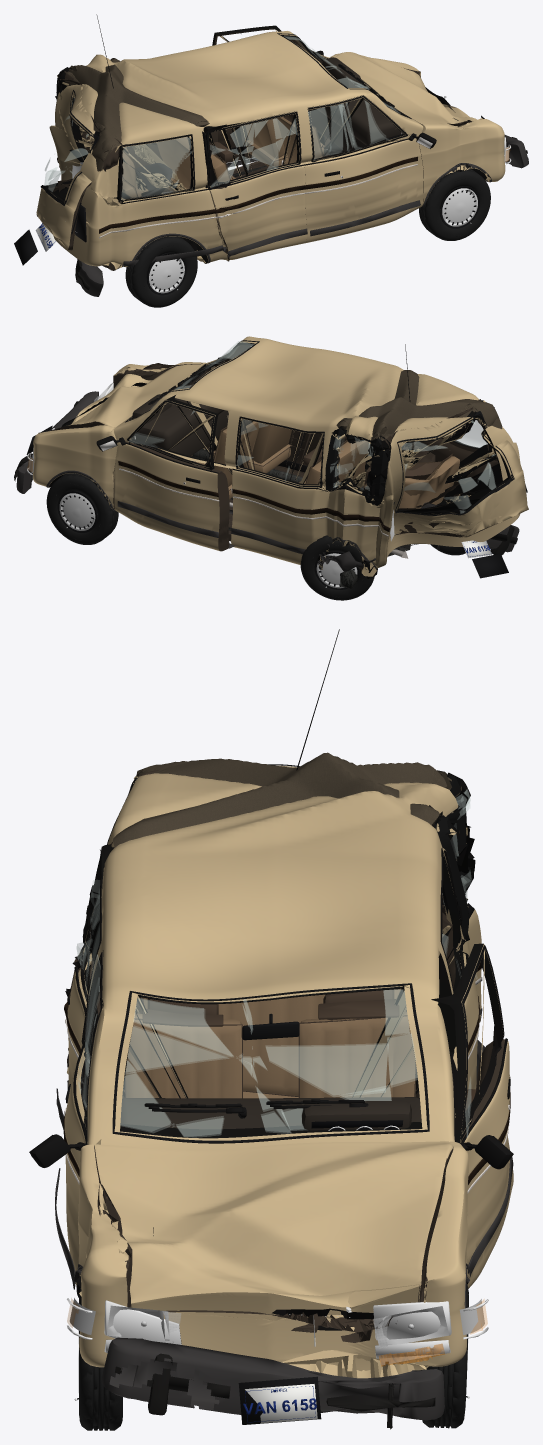
Rendered from minivan86_rear_corner_d2_lod1.glb.
The picture shows the model from 3 angles, top to bottom: view 1: azimuth 30°, elevation 25°; view 2: azimuth 150°, elevation 25°; view 3: azimuth 270°, elevation 25°; orthographic projection. The views are drawn at different scales.
Parts seen in each view (by area): view 1: Body, Door_FR, Interior, Door_SR, Liftgate, Glass, Hood, Wheel_FR_mesh, Wheel_RR_mesh, Trim, Trim_FR, Glass_FR (+7 smaller); view 2: Body, Interior, Door_FL, Liftgate, Trim, Wheel_FL_mesh, Glass, Hood, Wheel_RL_mesh, Trim_FL, Glass_Liftgate, Ends (+5 smaller); view 3: Body, Hood, Interior, Glass, Bumper_F, Ends, Door_FL, Trim_FL, Door_FR, Trim, Trim_FR, Wheel_FR_mesh (+5 smaller).
Part boxes in pixels (x1,y1,x2,y2): Body: (49,31,505,270); Door_FR: (304,95,423,243); Interior: (122,57,402,197); Door_SR: (204,111,306,259); Liftgate: (36,68,123,250); Glass: (56,33,411,202); Hood: (334,52,476,124); Wheel_FR_mesh: (419,169,490,240); Wheel_RR_mesh: (125,236,197,307); Trim: (55,14,491,267); Trim_FR: (304,95,436,236); Glass_FR: (308,96,404,162); Body: (33,336,520,578); Interior: (132,371,459,508); Door_FL: (113,395,229,551); Liftgate: (380,399,528,537); Trim: (46,344,489,577); Wheel_FL_mesh: (46,473,118,544); Glass: (125,340,487,504); Hood: (49,364,203,431); Wheel_RL_mesh: (300,535,374,600); Trim_FL: (96,400,234,548); Glass_Liftgate: (395,411,514,515); Ends: (26,382,527,578); Body: (67,752,481,1378); Hood: (94,1141,453,1342); Interior: (120,988,421,1130); Glass: (112,775,471,1143); Bumper_F: (102,1337,444,1429); Ends: (66,1298,488,1424); Door_FL: (431,943,513,1288); Trim_FL: (460,945,513,1277); Door_FR: (64,951,103,1285); Trim: (67,629,485,1336); Trim_FR: (29,952,102,1289); Wheel_FR_mesh: (74,1288,122,1430).
Size of the model in its own units: 4.58 by 2.34 by 2.04.
Materials: 34 (5 with a texture image).
